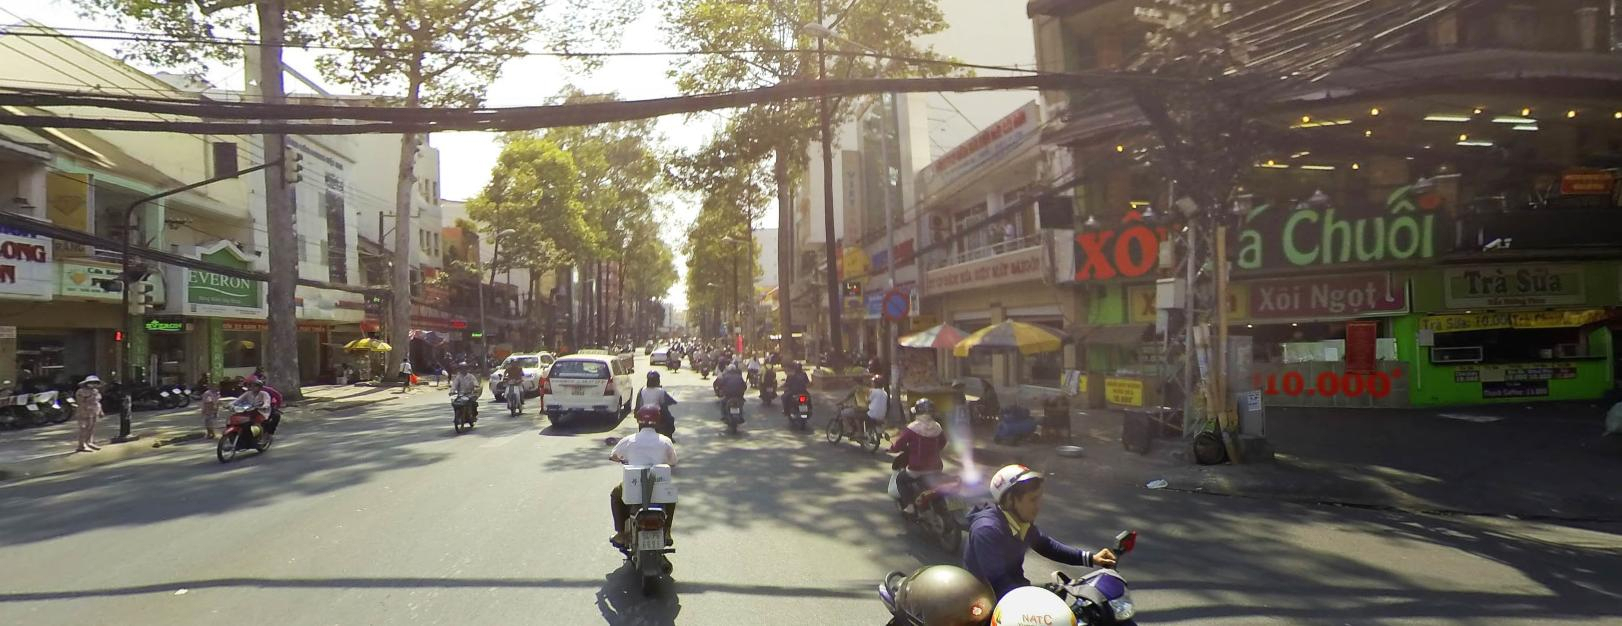Cam dung va do: (883, 290, 908, 318)
